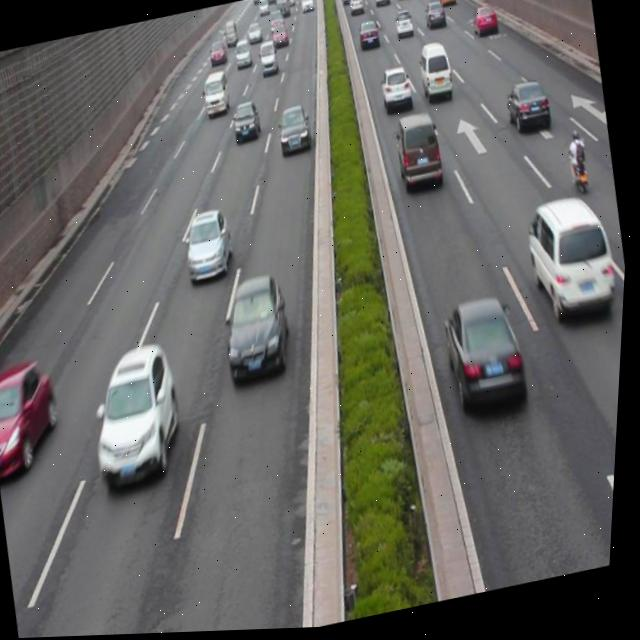car: (83, 340, 195, 492), (440, 292, 536, 419), (218, 272, 301, 385), (0, 356, 72, 483), (181, 207, 239, 286), (502, 79, 554, 141), (275, 105, 314, 156), (377, 65, 415, 116), (229, 101, 265, 147), (470, 6, 499, 41)
truck: (520, 193, 623, 325), (390, 112, 447, 195), (414, 41, 457, 105), (199, 71, 233, 119)
